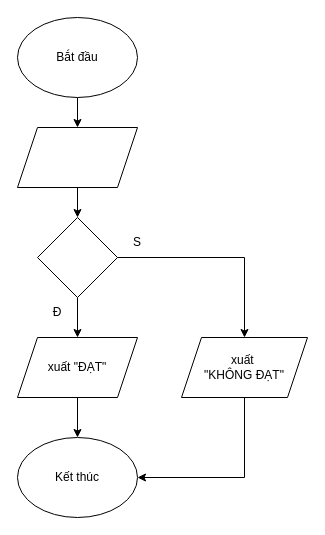
Some shapes in this 325 by 535 pixel diagram are drawn without their labels. The centre of each missing label's shape, as x and y in pixels:
"nhập điểm" goes at point 77,157.
"điểm >=5?" goes at point 77,257.
